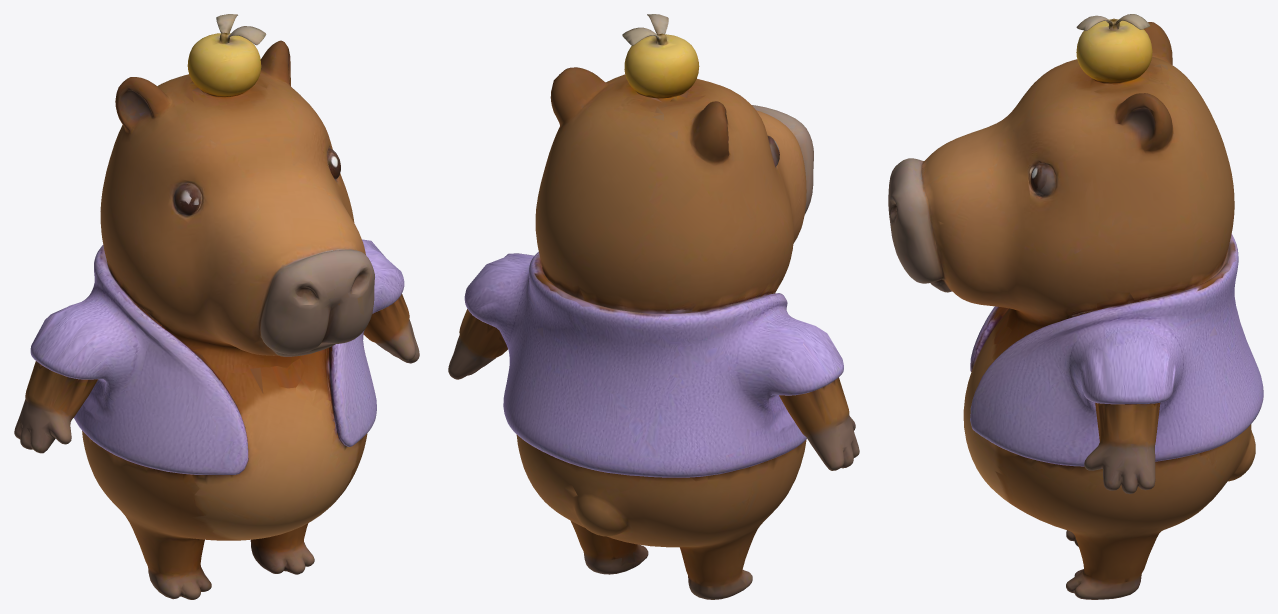
File: capi.glb
3 renders of one model, left to right at view 1: azimuth 30°, elevation 25°; view 2: azimuth 150°, elevation 25°; view 3: azimuth 270°, elevation 25°, orthographic.
Parts seen in each view (by area): view 1: capi; view 2: capi; view 3: capi.
Part boxes in pixels (box(x1,y1,x2,y2)): capi: box(14, 14, 419, 599); capi: box(448, 14, 859, 599); capi: box(888, 14, 1263, 599).
Bounding box in the file's own units: 0.7513 × 1 × 0.6136.
Materials: 1 (1 with a texture image).
